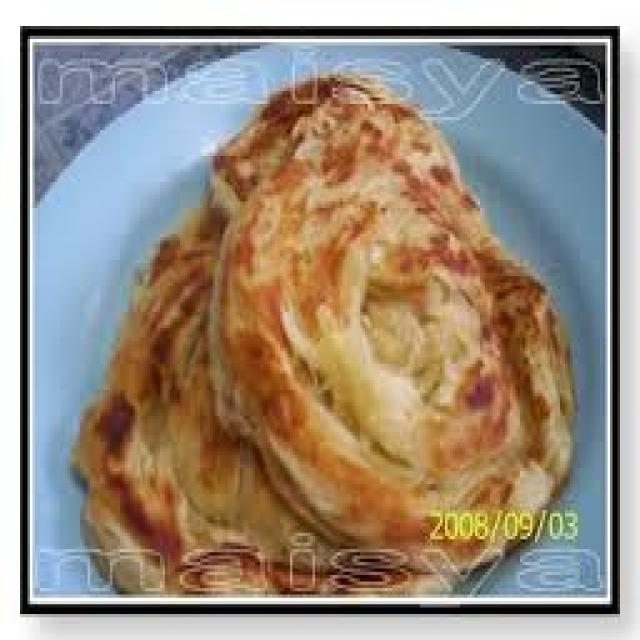Paratha: (100, 55, 600, 640)
